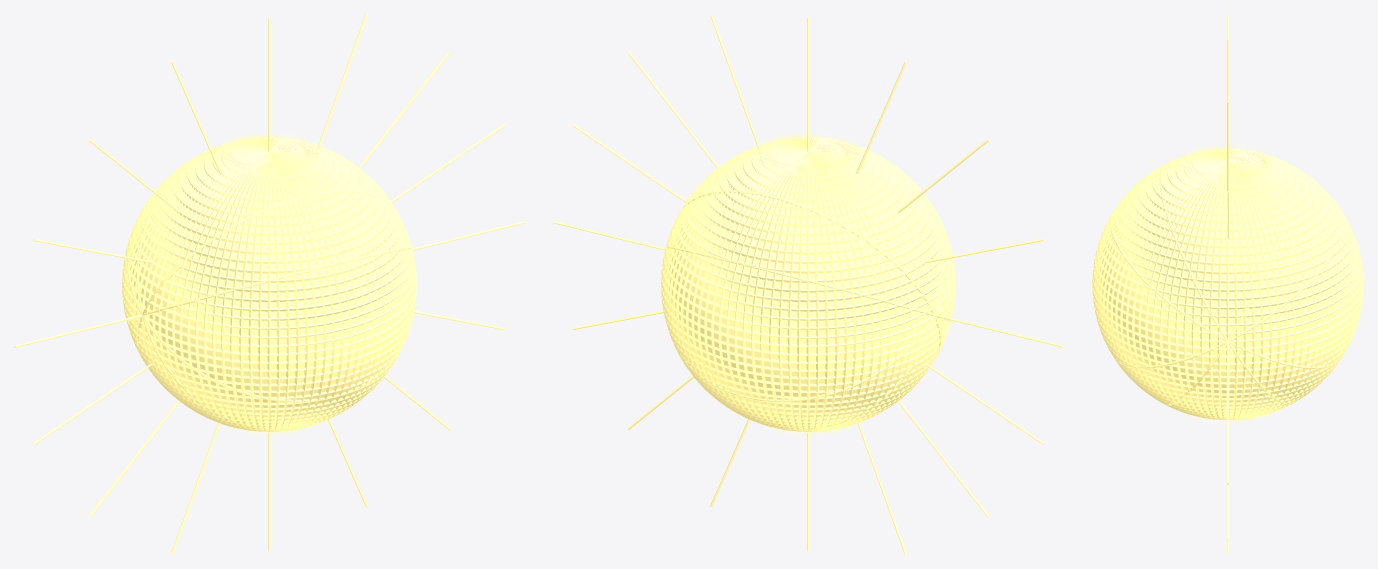
File: zentro-globe.glb
3 renders of one model, left to right at view 1: azimuth 30°, elevation 25°; view 2: azimuth 150°, elevation 25°; view 3: azimuth 270°, elevation 25°, orthographic. The views are drawn at different scales.
Visible parts, largest first — view 1: Globe_Wireframe, LatitudeRing_-0.524, LatitudeRing_-1.047, LatitudeRing_0.524, LatitudeRing_1.047; view 2: Globe_Wireframe, LatitudeRing_0.524, LatitudeRing_1.047, LatitudeRing_-0.524, LatitudeRing_-1.047; view 3: Globe_Wireframe, LatitudeRing_0.524, LatitudeRing_-0.524, LatitudeRing_1.047, LatitudeRing_-1.047.
Part boxes in pixels (x1=…): Globe_Wireframe: x1=122, y1=131, x2=416, y2=437; LatitudeRing_-0.524: x1=127, y1=246, x2=411, y2=321; LatitudeRing_-1.047: x1=136, y1=190, x2=394, y2=354; LatitudeRing_0.524: x1=127, y1=233, x2=404, y2=402; LatitudeRing_1.047: x1=136, y1=153, x2=305, y2=430; Globe_Wireframe: x1=661, y1=131, x2=955, y2=437; LatitudeRing_0.524: x1=666, y1=246, x2=950, y2=321; LatitudeRing_1.047: x1=683, y1=190, x2=941, y2=354; LatitudeRing_-0.524: x1=673, y1=233, x2=950, y2=402; LatitudeRing_-1.047: x1=772, y1=153, x2=941, y2=430; Globe_Wireframe: x1=1092, y1=144, x2=1363, y2=424; LatitudeRing_0.524: x1=1115, y1=219, x2=1345, y2=368; LatitudeRing_-0.524: x1=1110, y1=219, x2=1340, y2=368; LatitudeRing_1.047: x1=1166, y1=166, x2=1296, y2=405; LatitudeRing_-1.047: x1=1159, y1=166, x2=1289, y2=405.
Size of the model in its own units: 4.04 by 4.04 by 2.03.
